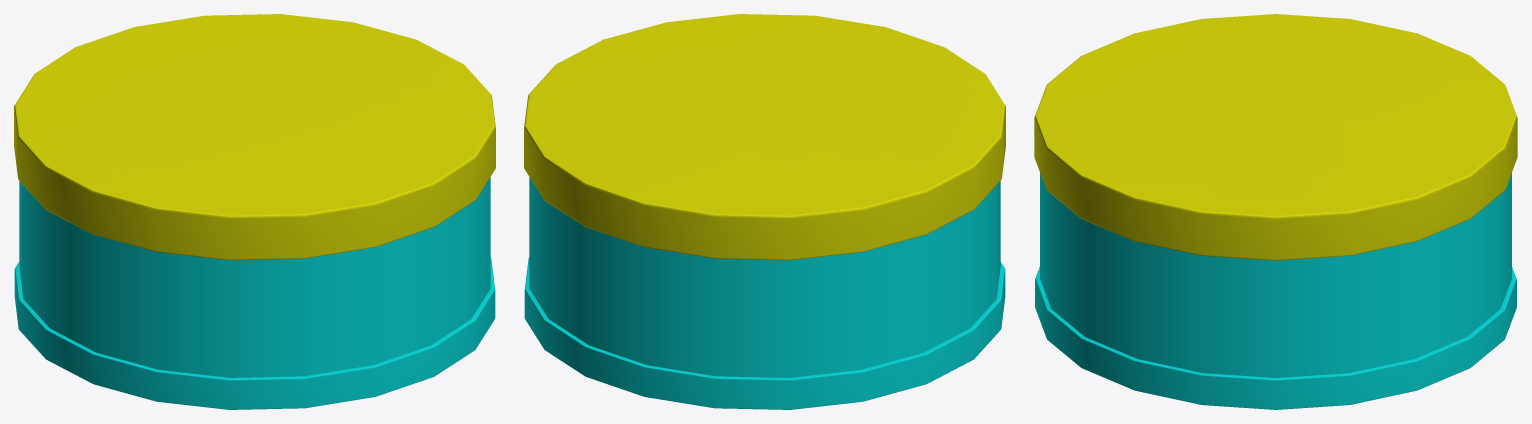
File: Tin_Container.fbx
The picture shows the model from 3 angles, left to right: view 1: azimuth 30°, elevation 25°; view 2: azimuth 150°, elevation 25°; view 3: azimuth 270°, elevation 25°; orthographic projection.
Parts seen in each view (by area): view 1: TinContainer_Dupe_TinContainerBase; view 2: TinContainer_Dupe_TinContainerBase; view 3: TinContainer_Dupe_TinContainerBase.
Boxes of the visible parts, box(x1,y1,x2,y2) form: TinContainer_Dupe_TinContainerBase: box(14, 14, 495, 409); TinContainer_Dupe_TinContainerBase: box(524, 14, 1005, 409); TinContainer_Dupe_TinContainerBase: box(1034, 14, 1517, 409).
Bounding box in the file's own units: 0.9401 × 0.4159 × 0.9401.
